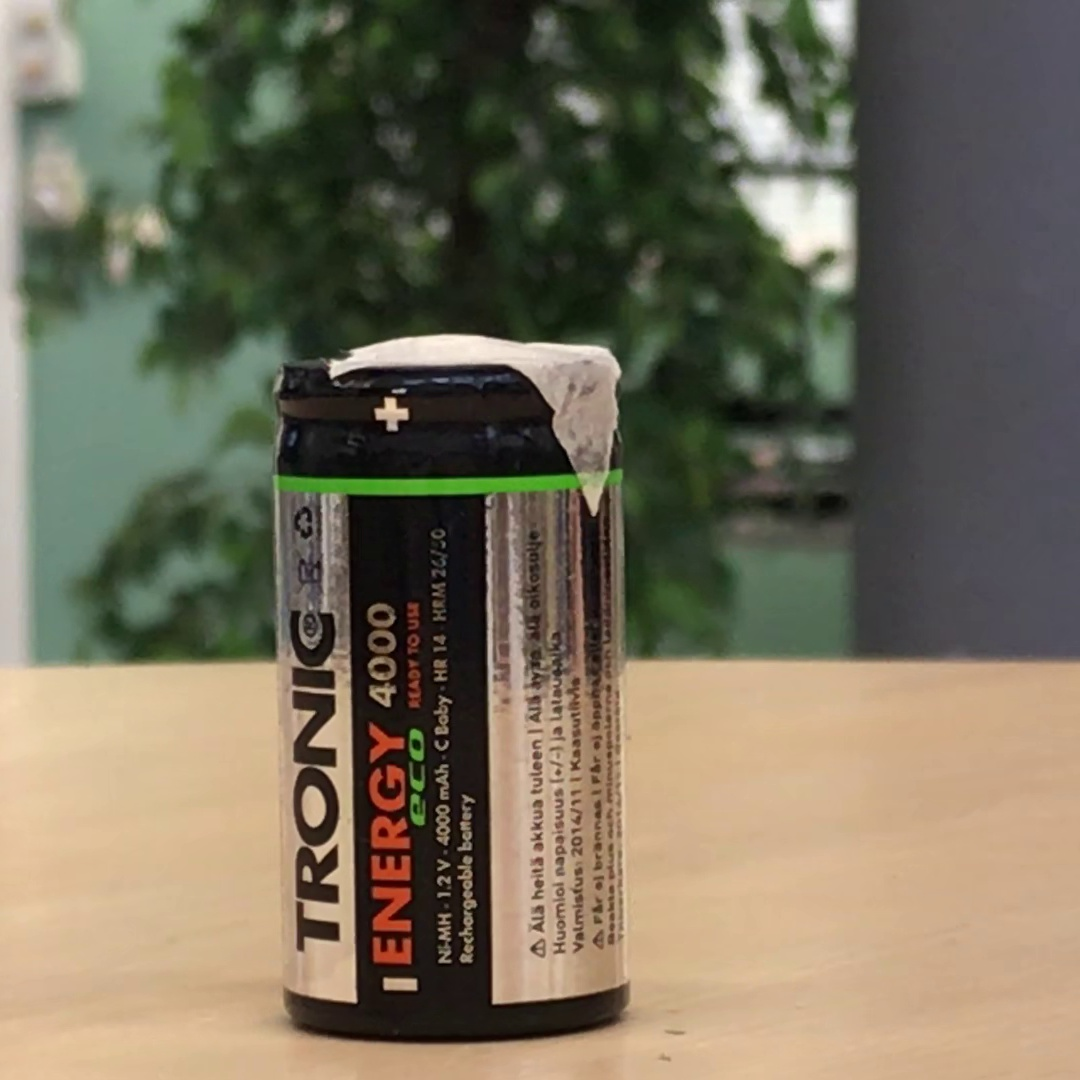keyword: (429, 851, 460, 906), (429, 917, 460, 972)
